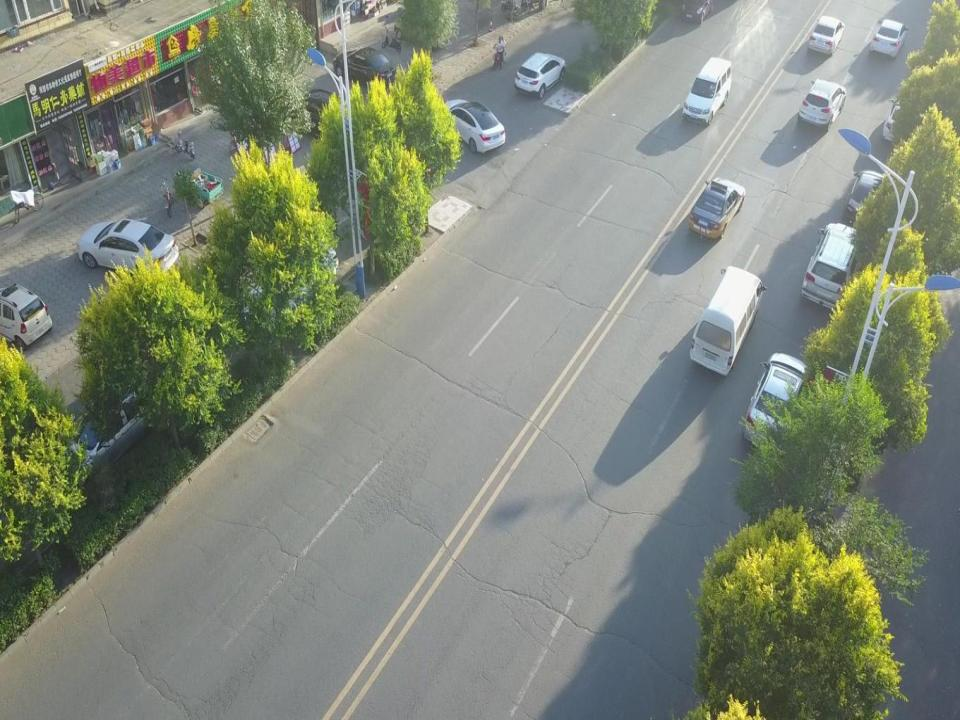car: (59, 383, 159, 486), (740, 351, 810, 452), (801, 222, 868, 314), (77, 219, 179, 276), (688, 178, 746, 240), (442, 98, 506, 154), (287, 89, 349, 143), (333, 46, 396, 90), (797, 79, 846, 133), (515, 52, 566, 100), (844, 169, 886, 226), (882, 87, 922, 146), (870, 19, 910, 60), (807, 15, 845, 57), (680, 0, 714, 25)
van: (690, 266, 768, 376), (0, 284, 54, 352), (682, 57, 732, 125)
